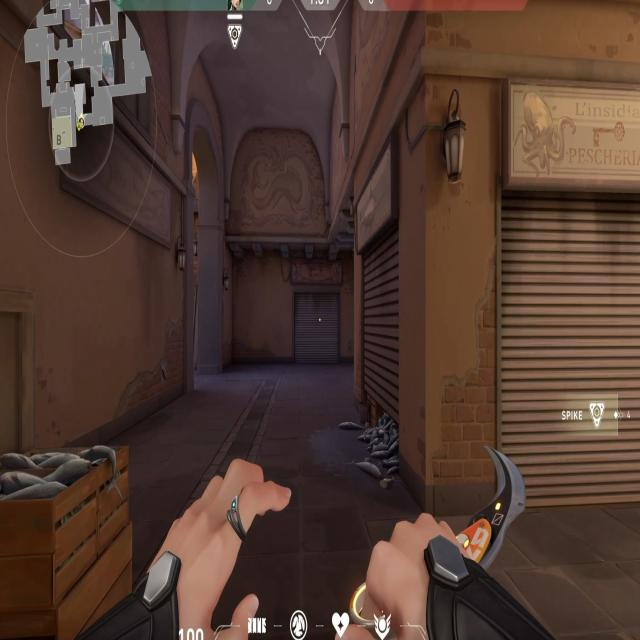B_Main_Corner: (341, 140, 414, 464)
